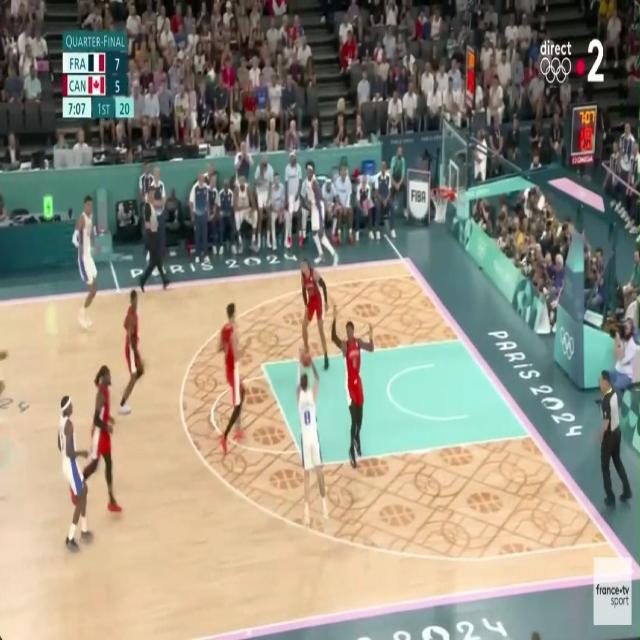ball_handler: (295, 340, 335, 539)
